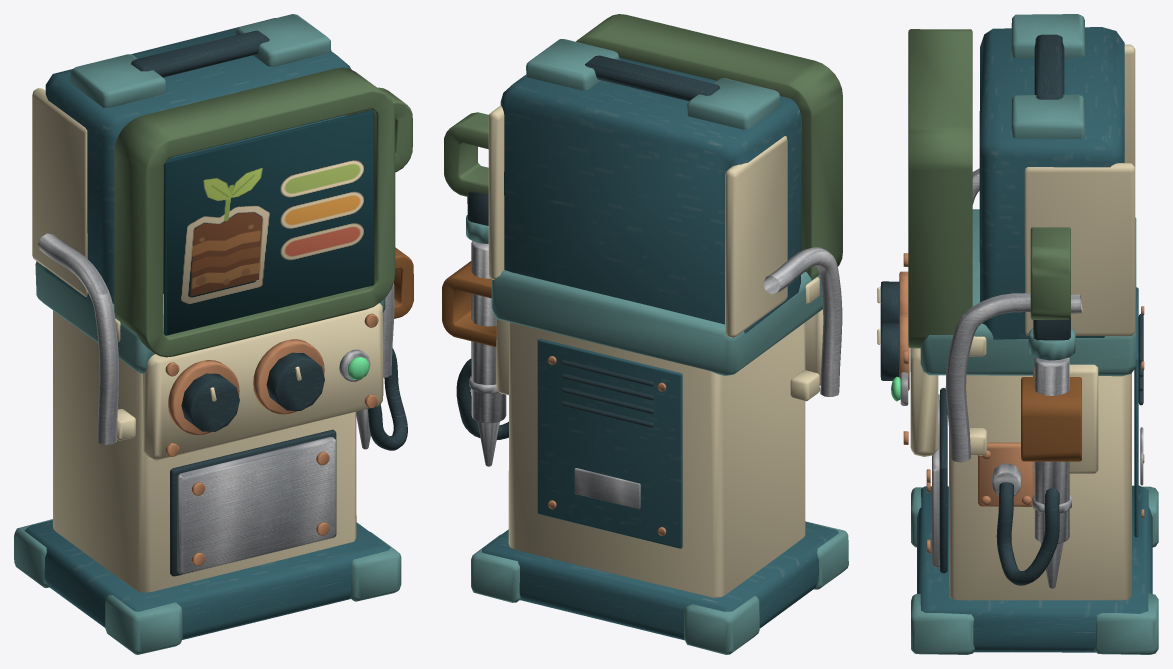
The model's file is SoilScanner_Cozy_LOD1.fbx.
3 views of the same model, side by side, from view 1: azimuth 30°, elevation 25°; view 2: azimuth 150°, elevation 25°; view 3: azimuth 270°, elevation 25° (orthographic). The views are drawn at different scales.
Parts seen in each view (by area): view 1: ScannerMesh_Distance1; view 2: ScannerMesh_Distance1; view 3: ScannerMesh_Distance1.
Part boxes in pixels (left/top/right/bottom): ScannerMesh_Distance1: left=14, top=14, right=413, bottom=654; ScannerMesh_Distance1: left=442, top=14, right=848, bottom=654; ScannerMesh_Distance1: left=877, top=14, right=1158, bottom=654.
Bounding box in the file's own units: 104 × 150 × 72.35.
